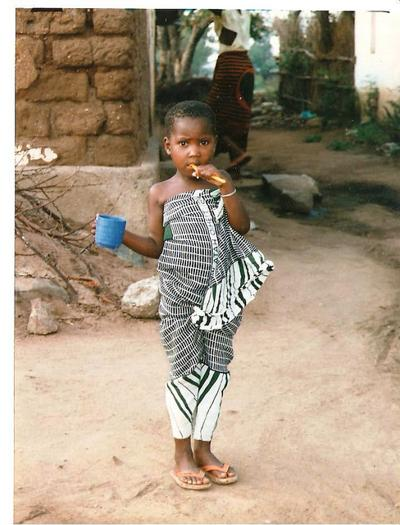person: (93, 99, 252, 493)
